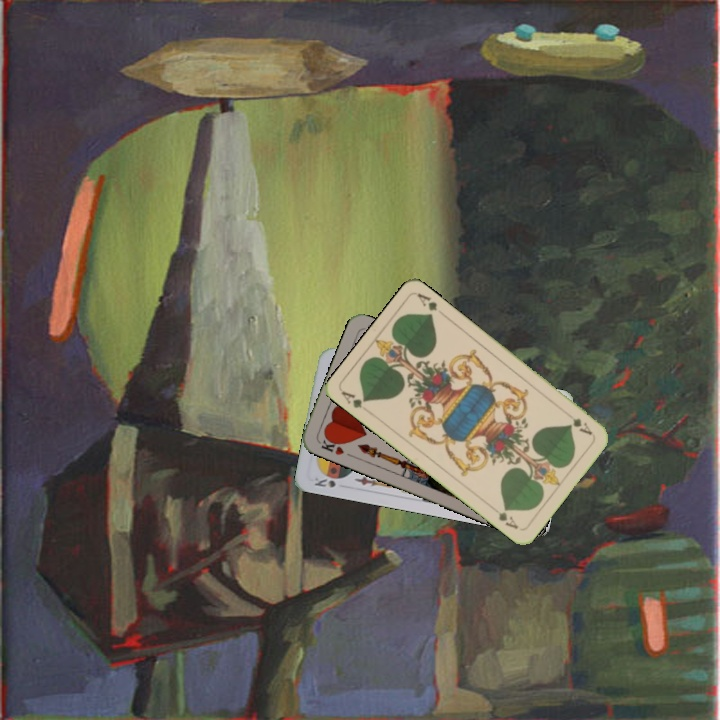GA: (561, 408, 595, 438), (337, 387, 370, 411)
HK: (317, 432, 347, 458)
SK: (310, 473, 338, 490)
